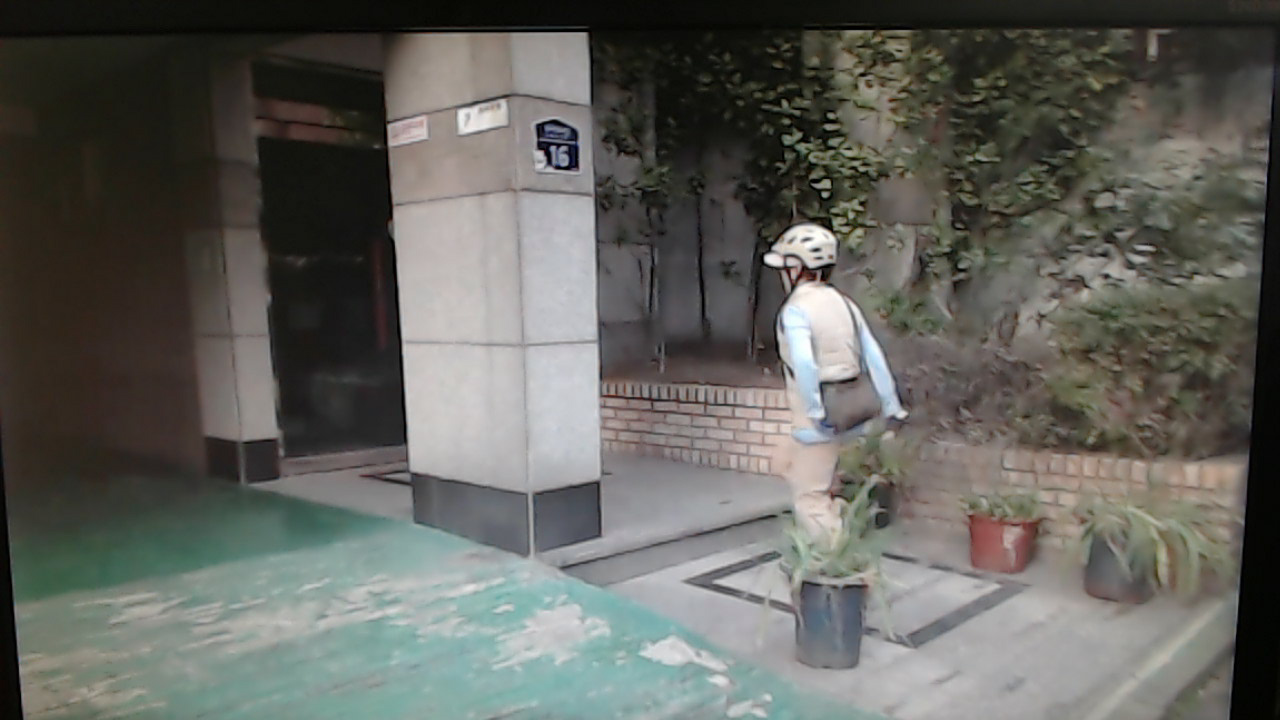Yakurut: (750, 222, 906, 600)
